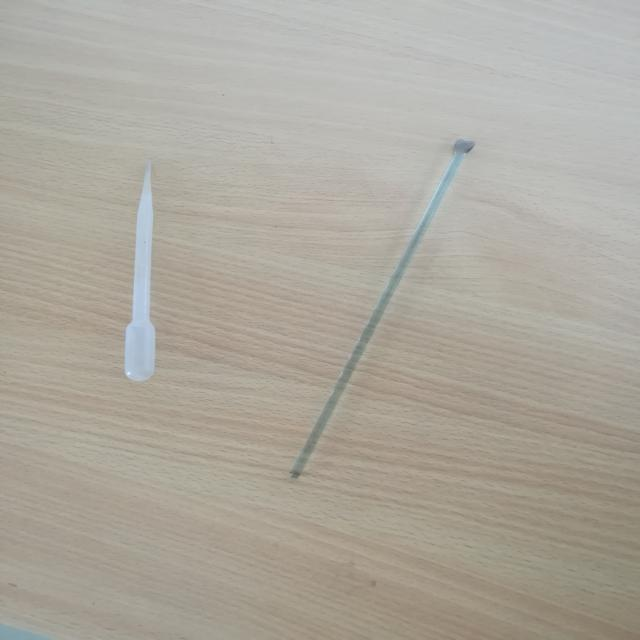Glass_Rod: (268, 121, 504, 519)
Pipette: (74, 131, 206, 411)
